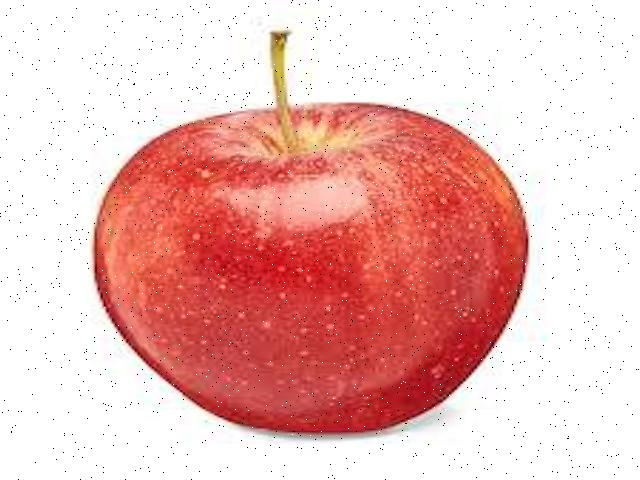apple: (89, 22, 540, 443)
